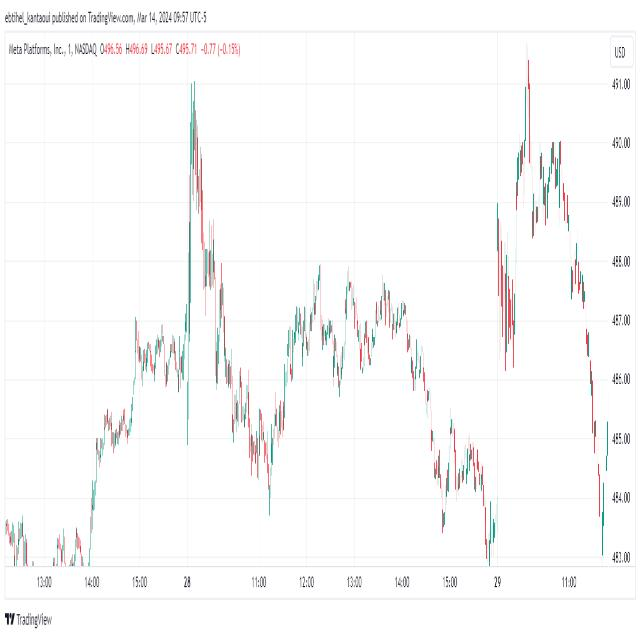Triple-Top: (285, 260, 412, 379), (534, 133, 574, 223), (142, 326, 179, 386)
